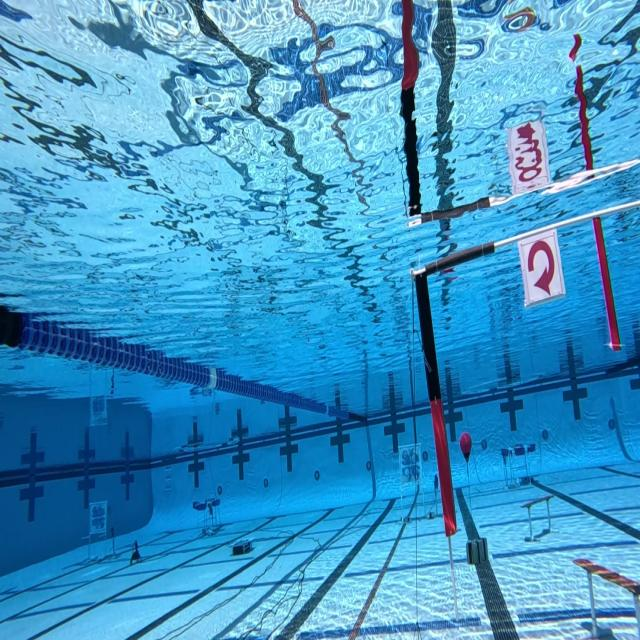red_side: (518, 224, 570, 308)
